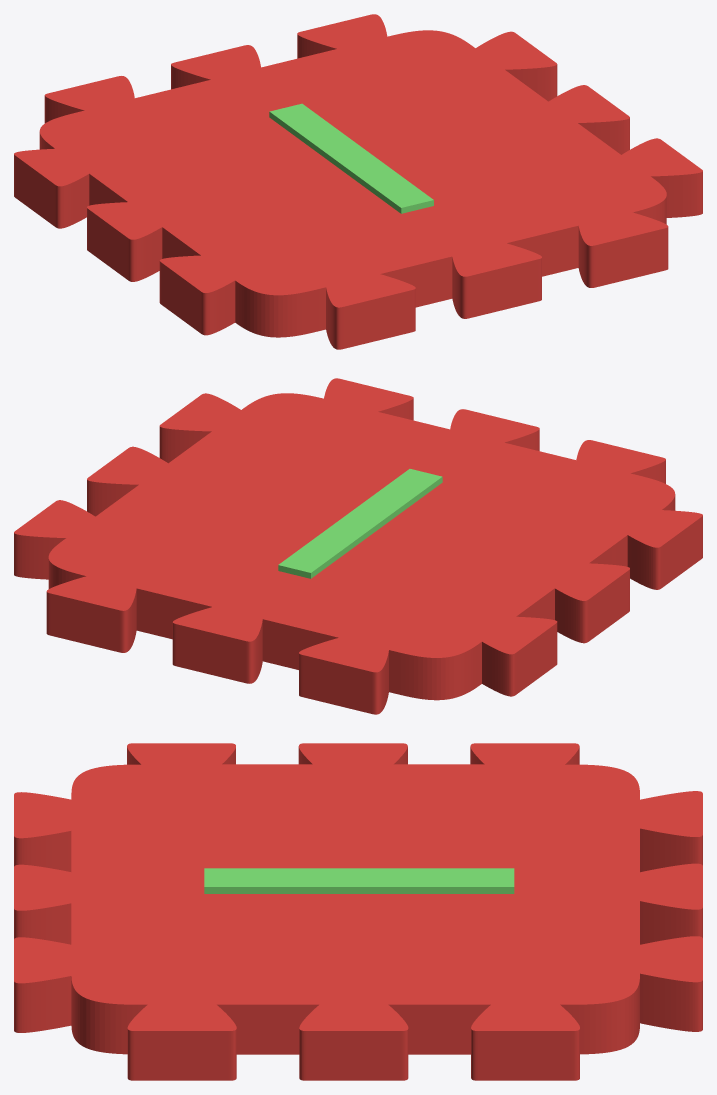
Rendered from puzzel_1.fbx.
3 views of the same model, one above another, from view 1: azimuth 30°, elevation 25°; view 2: azimuth 150°, elevation 25°; view 3: azimuth 270°, elevation 25° (orthographic). The views are drawn at different scales.
Visible parts, largest first — view 1: NurbsCircle.006; view 2: NurbsCircle.006; view 3: NurbsCircle.006.
Part boxes in pixels (bbox=[...]): NurbsCircle.006: bbox=[14, 14, 702, 349]; NurbsCircle.006: bbox=[14, 378, 702, 714]; NurbsCircle.006: bbox=[14, 743, 702, 1080].
Size of the model in its own units: 239 by 22 by 242.
